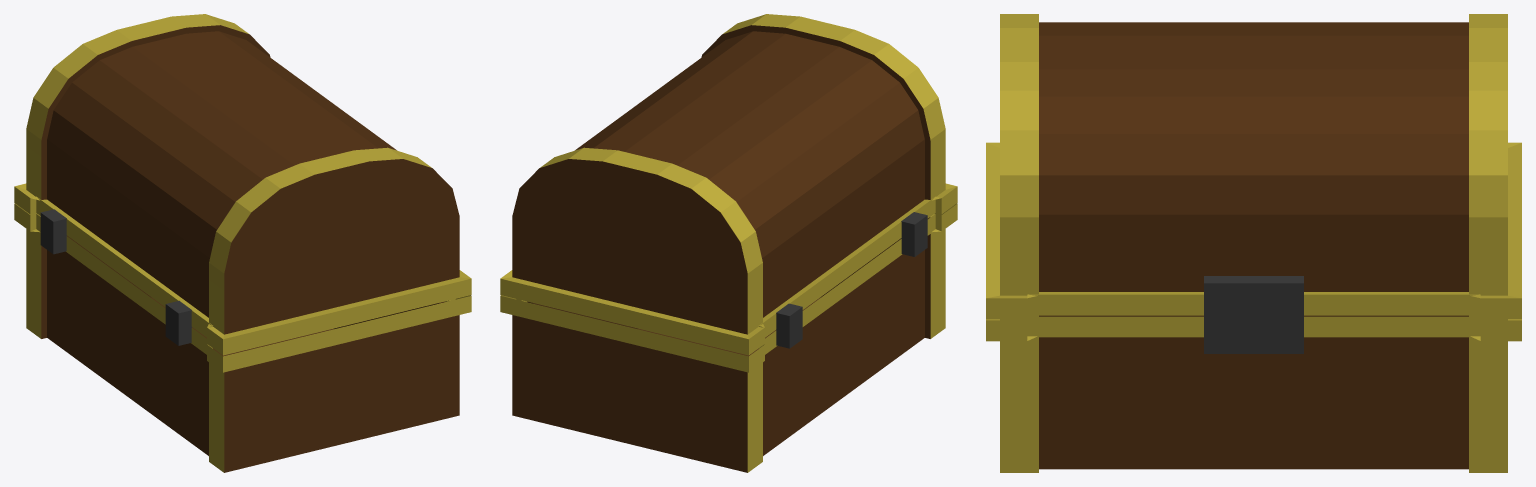
File: TreasureChest.fbx
3 renders of one model, left to right at view 1: azimuth 30°, elevation 25°; view 2: azimuth 150°, elevation 25°; view 3: azimuth 270°, elevation 25°, orthographic. The views are drawn at different scales.
Parts seen in each view (by area): view 1: Cube.001, Cube, Cube.003, Cube.004; view 2: Cube.001, Cube, Cube.003, Cube.004; view 3: Cube.001, Cube, Cube.002.
Part boxes in pixels (left/top/right/bottom): Cube.001: left=14, top=14, right=471, bottom=355; Cube: left=14, top=203, right=471, bottom=472; Cube.003: left=40, top=209, right=66, bottom=254; Cube.004: left=165, top=300, right=192, bottom=345; Cube.001: left=500, top=14, right=957, bottom=355; Cube: left=500, top=203, right=957, bottom=472; Cube.003: left=776, top=303, right=802, bottom=348; Cube.004: left=901, top=212, right=927, bottom=256; Cube.001: left=986, top=14, right=1521, bottom=319; Cube: left=986, top=315, right=1521, bottom=472; Cube.002: left=1204, top=276, right=1303, bottom=353.
Size of the model in its own units: 284 by 293 by 402.
